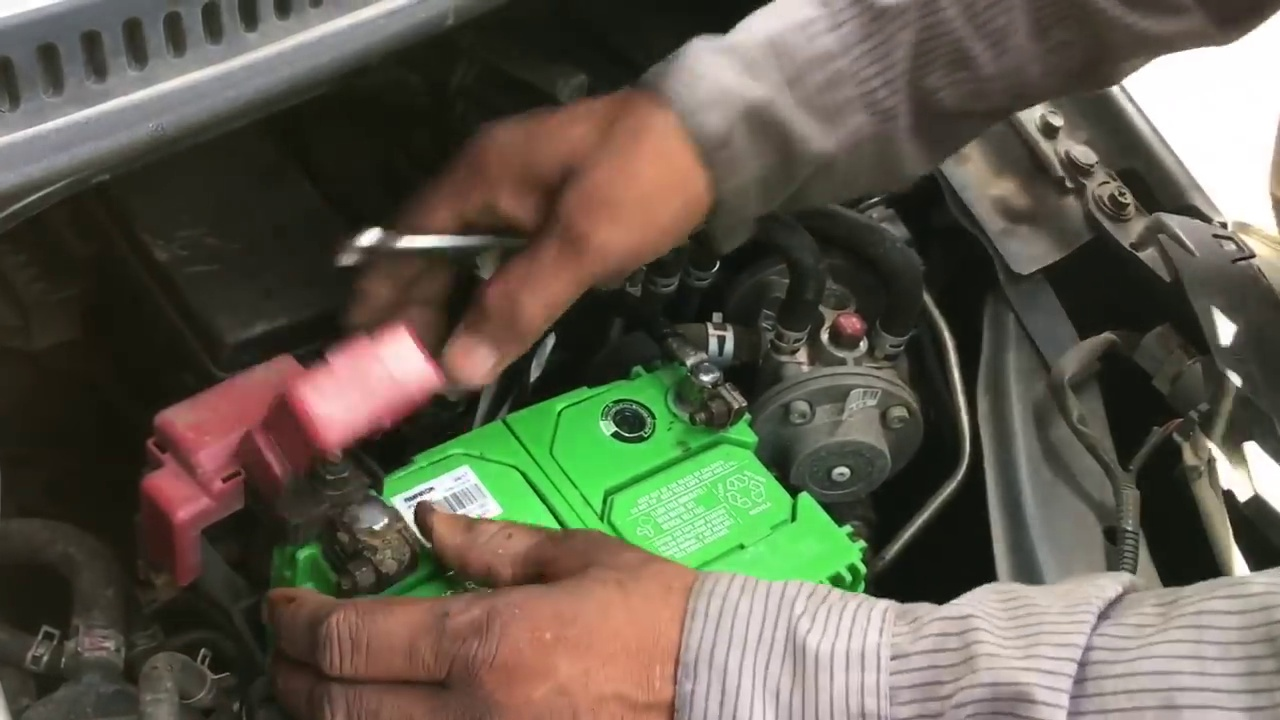battery: (264, 356, 870, 666)
neg_connected: (640, 318, 750, 434)
pos_connected: (222, 354, 463, 594)
pos_touched: (191, 357, 493, 708)
